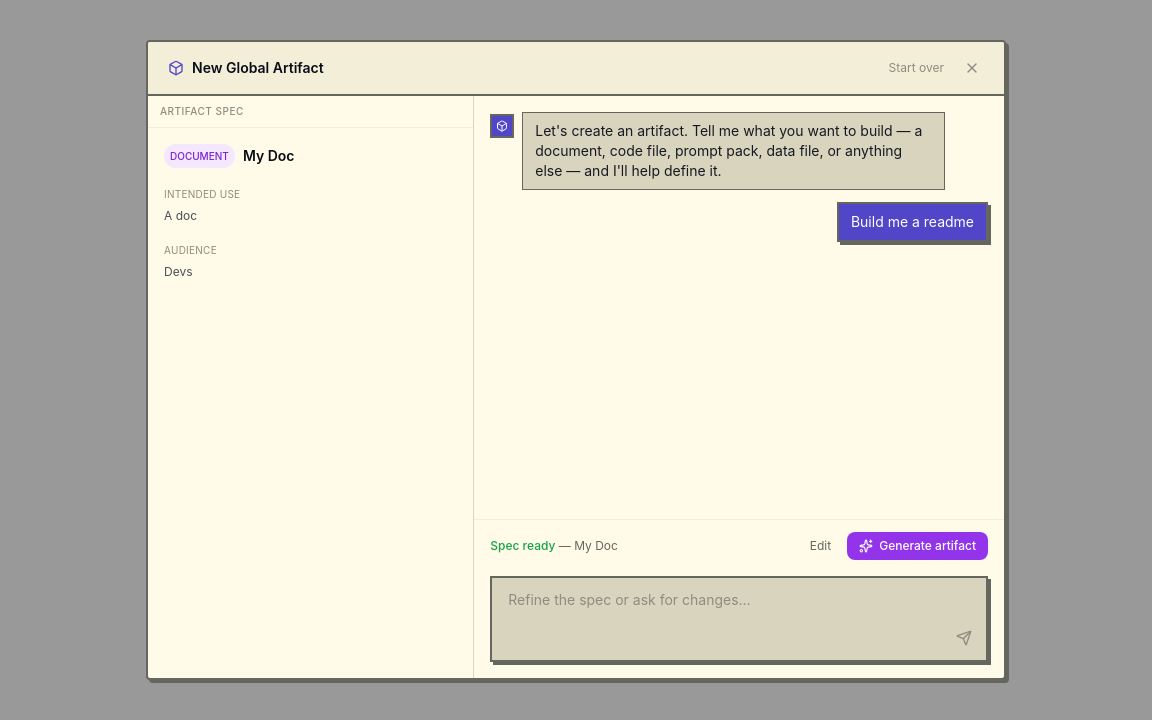
Test case: ArtifactGeneratorModal › EditForm shows all editable fields
Expected: the text "Spec ready" is shown, top-left (490, 538), bottom-right (555, 553)
Click the button "Edit" at (820,546), box top-left (802, 534), bottom-right (839, 558)
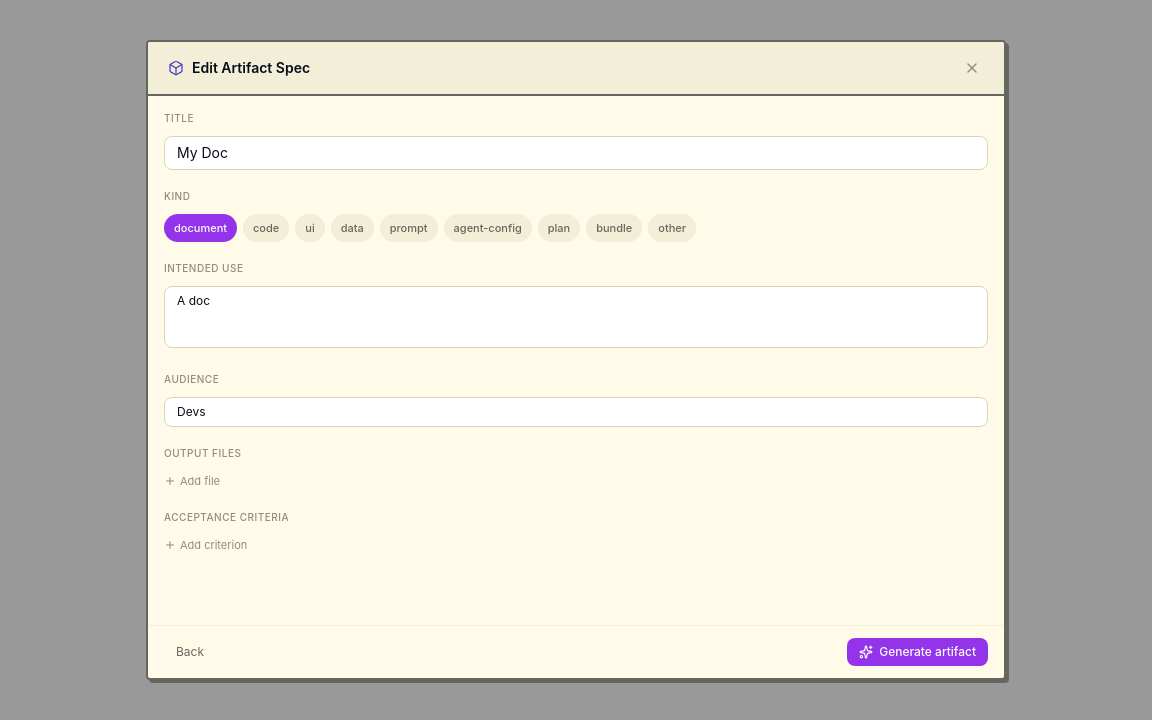
Now the field with placeholder "Artifact title" below "Title" is shown, box top-left (164, 136), bottom-right (988, 170)
Now the text box with placeholder "What is this artifact for?" is shown, box top-left (164, 286), bottom-right (988, 348)
Now the field with placeholder "Who is this for?" below "Audience" is shown, box top-left (164, 397), bottom-right (988, 427)
